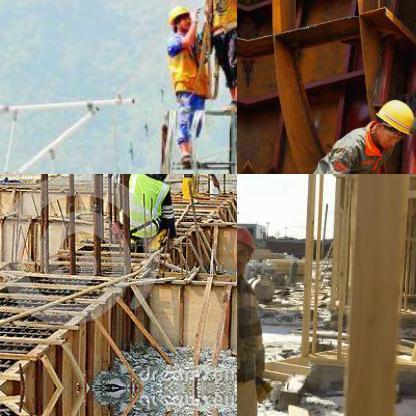Helmet: (366, 93, 414, 153), (237, 222, 260, 274), (166, 0, 193, 37)
